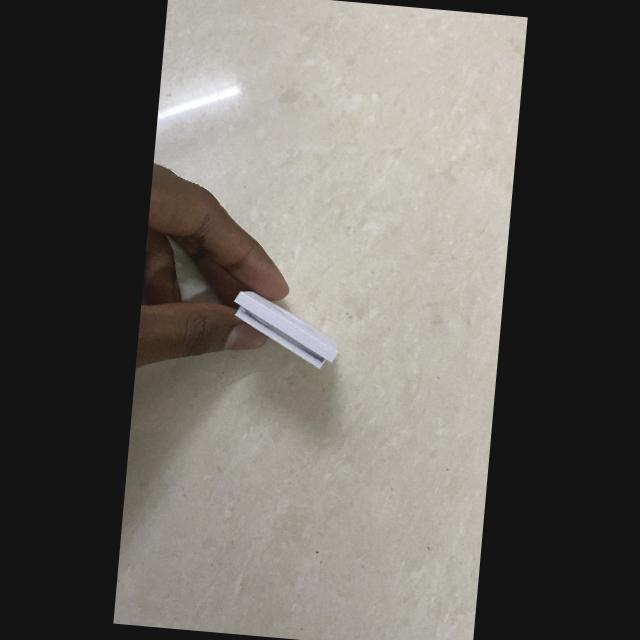RASPBERY PI CAM ENCLOSURE: (234, 289, 337, 369)
